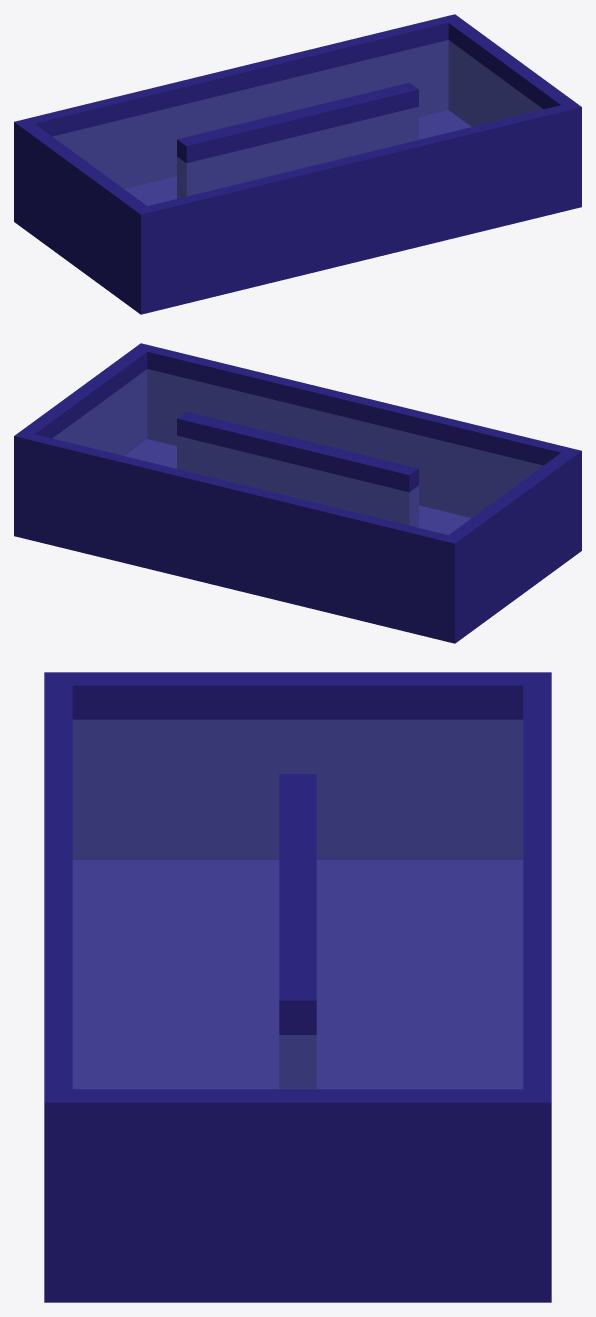
File: POOL_.fbx
3 views of the same model, one above another, from view 1: azimuth 30°, elevation 25°; view 2: azimuth 150°, elevation 25°; view 3: azimuth 270°, elevation 25° (orthographic). The views are drawn at different scales.
Parts seen in each view (by area): view 1: Cube; view 2: Cube; view 3: Cube.
Boxes of the visible parts, x1=… form: Cube: x1=14, y1=14, x2=581, y2=314; Cube: x1=14, y1=343, x2=581, y2=643; Cube: x1=44, y1=672, x2=551, y2=1302.
Size of the model in its own units: 692 by 150 by 345.
